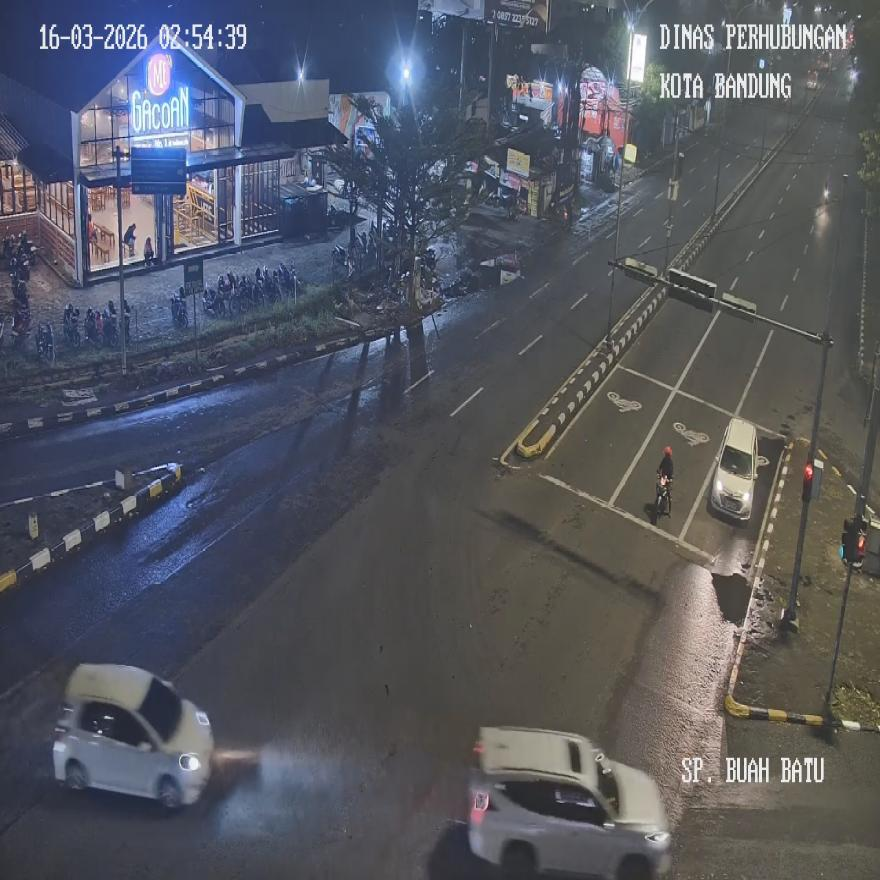Mobil: (465, 726, 671, 879), (51, 662, 214, 810), (711, 416, 758, 523)
Motor: (83, 307, 105, 347), (100, 301, 119, 347), (231, 276, 253, 314), (62, 308, 82, 348), (655, 472, 672, 517), (260, 266, 280, 304), (276, 262, 297, 298), (170, 287, 188, 328), (36, 321, 54, 362), (203, 281, 223, 317), (123, 222, 137, 256), (122, 301, 132, 342), (144, 237, 155, 268)
